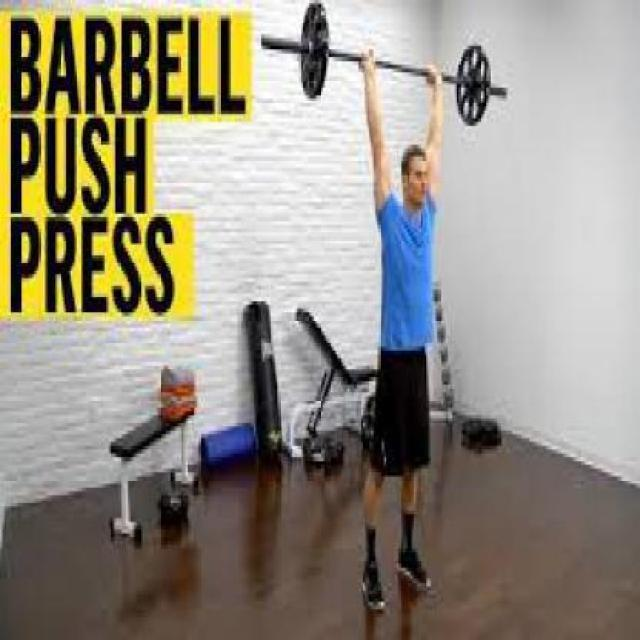barbell: (288, 2, 351, 106), (448, 38, 499, 132)
